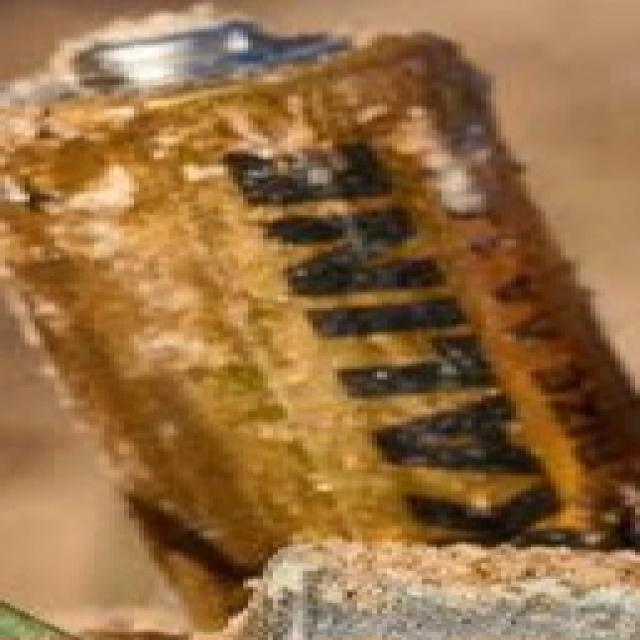battery: (18, 0, 640, 601)
